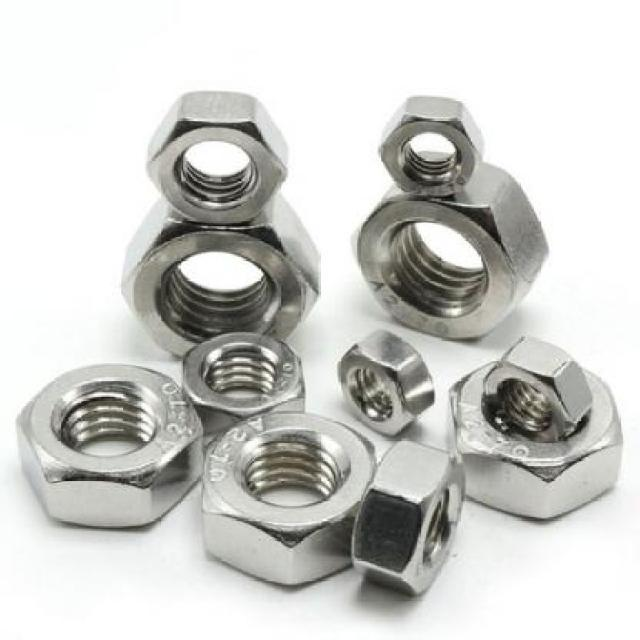Nut: (348, 149, 550, 344), (117, 188, 321, 360), (14, 362, 204, 532), (200, 408, 378, 589), (446, 355, 624, 523), (144, 88, 290, 226), (351, 438, 466, 598), (182, 330, 306, 450), (484, 335, 595, 444), (375, 93, 485, 198), (336, 328, 436, 437)
